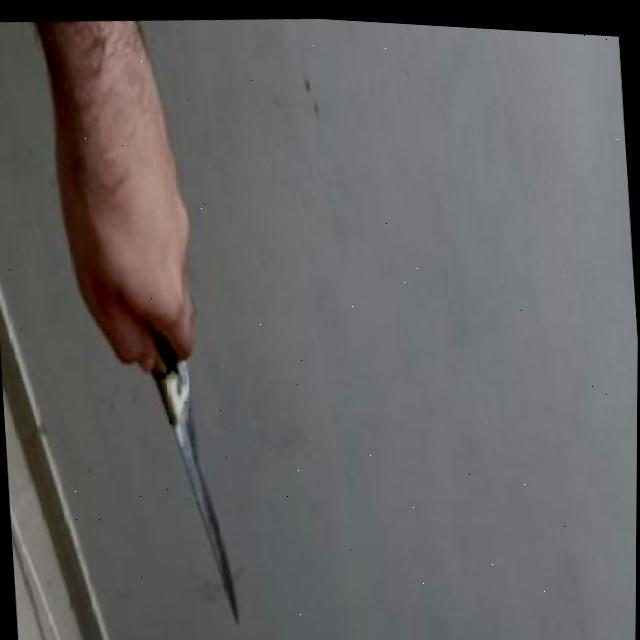knife: (148, 319, 240, 627)
